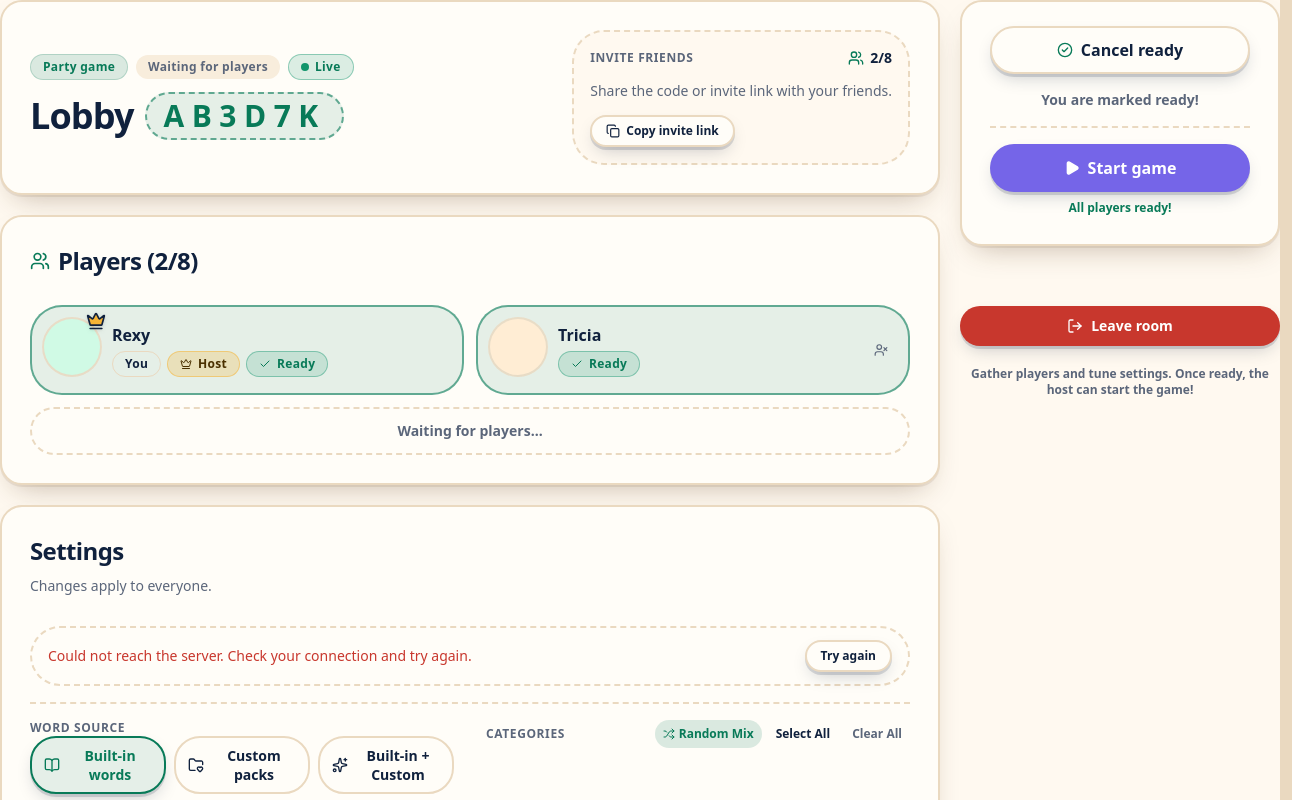
Test case: LobbyPage Real-Time Integration › enables start game button for host when all players are ready and minimum player count is met
Expected: the text "All players ready!" is shown, [1068,199,1172,216]
Step 1. Click the button "Start game" → (1120, 168), box [990,144,1250,192]
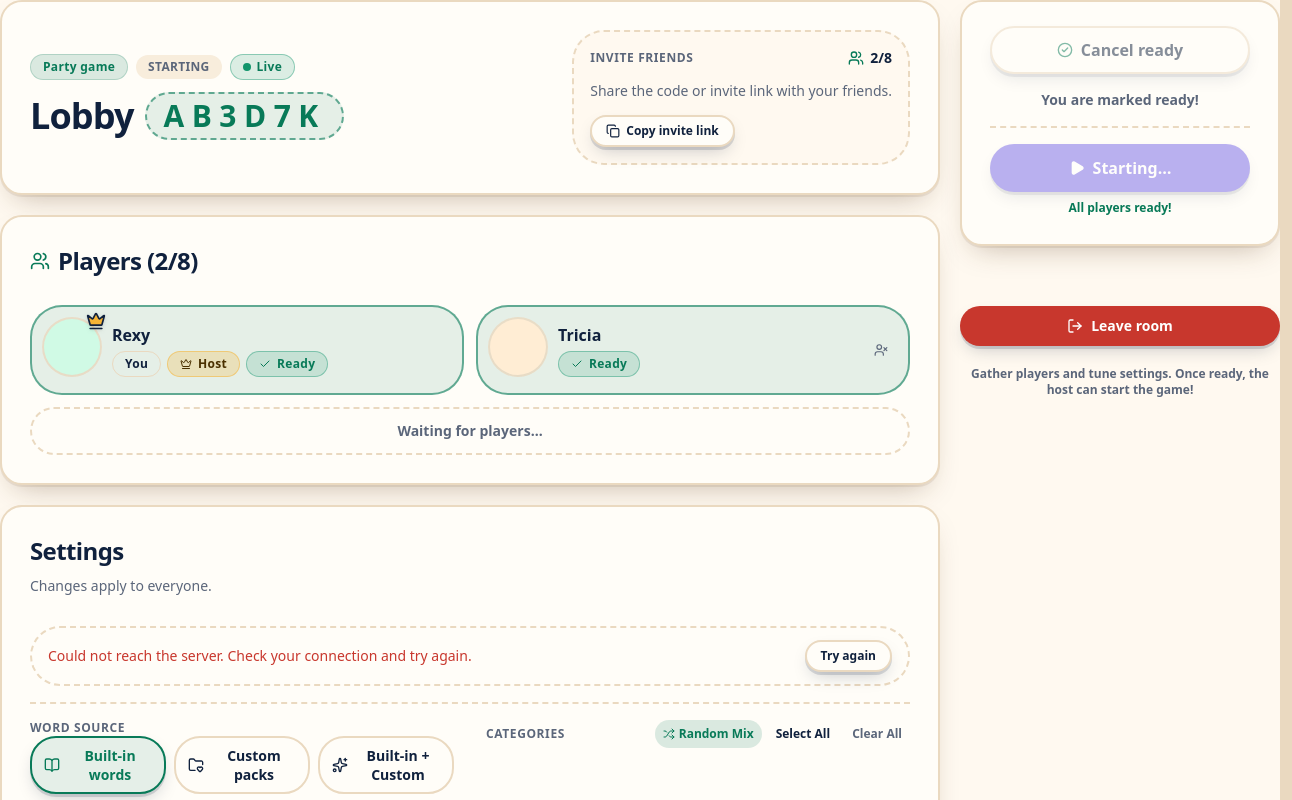
Now the button "Starting…" is shown, box [990,144,1250,192]
